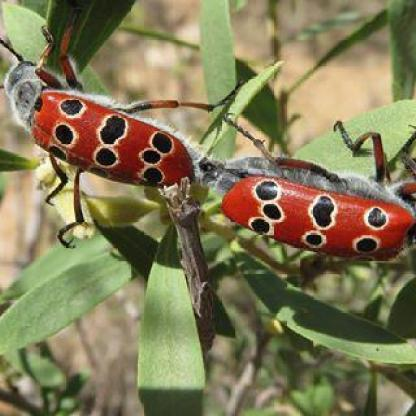beetle: (0, 44, 197, 216), (205, 118, 416, 274)
